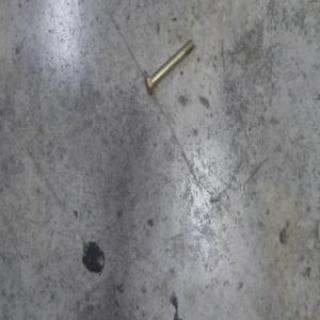Bolttrack_idkeyframe: (141, 38, 195, 96)
